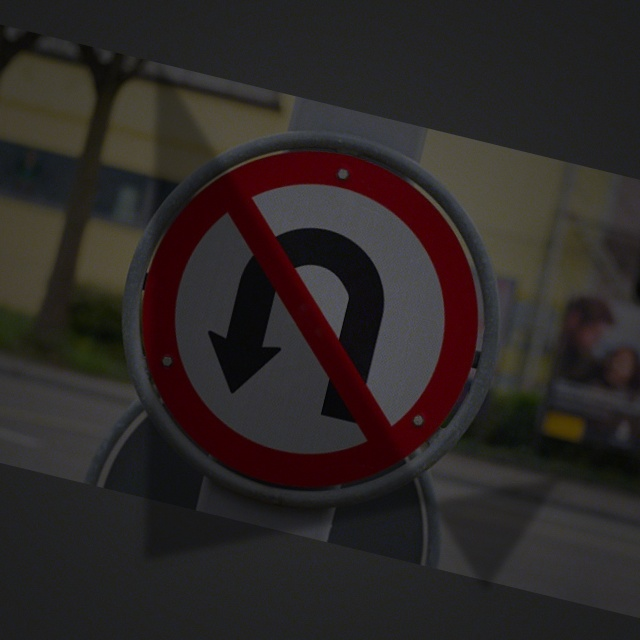U_Turn_Prohibited: (88, 100, 538, 546)
